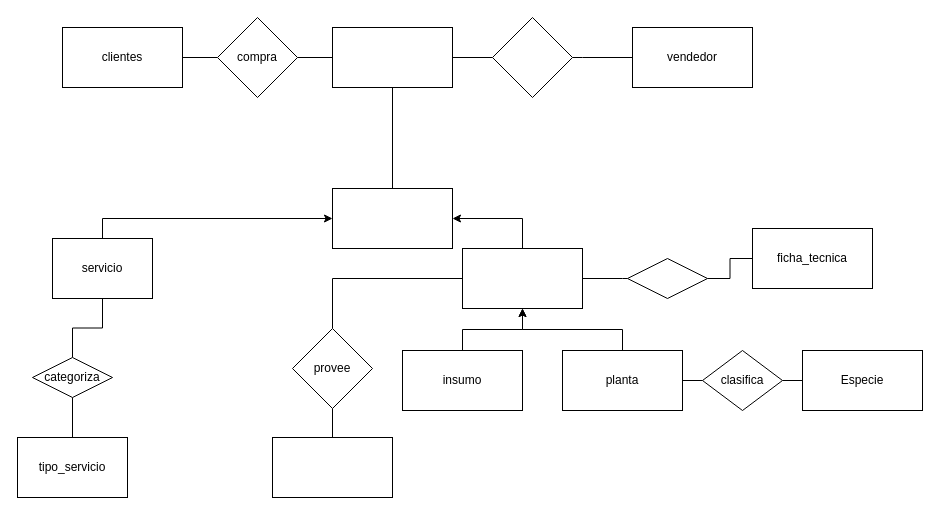
The diagram is 940 pixels wide and 515 high, and some of its shapes have lost their labels. The shapes that lost their labels are listed below. From the top down, each one's centre as x and y in pixels, then its label:
At point 392,57: "venta".
At point 532,57: "realiza".
At point 392,218: "inventario".
At point 522,278: "producto".
At point 667,278: "detalla".
At point 332,467: "proveedor".
